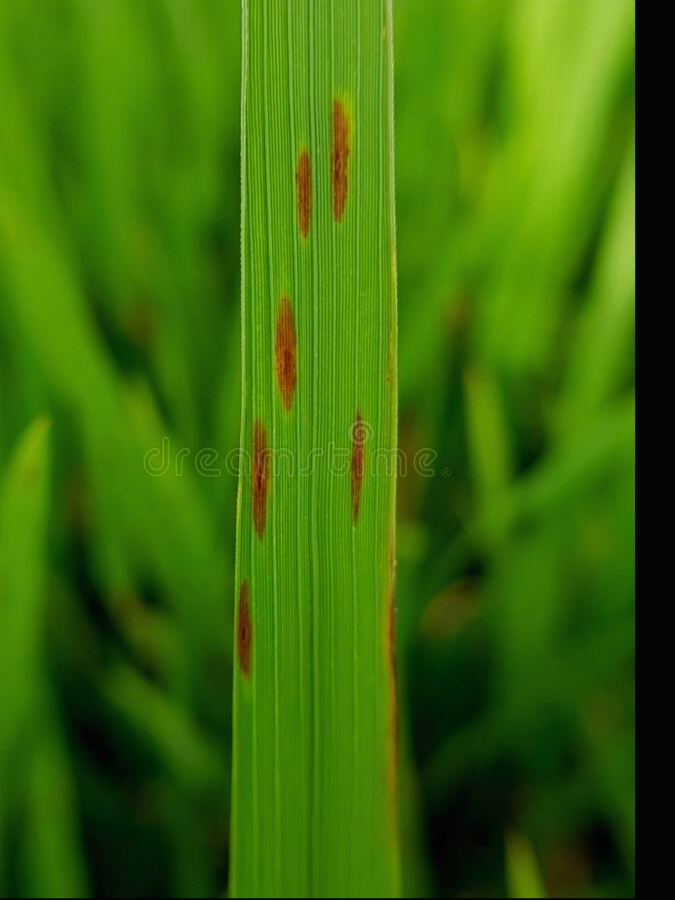Bacterial_Leaf_Blight: (224, 408, 293, 538), (313, 81, 360, 226), (212, 571, 270, 680), (336, 401, 377, 536), (261, 288, 306, 409), (287, 147, 314, 246)
